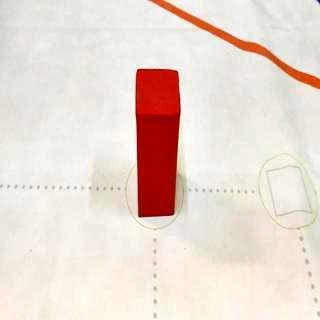redbox: (136, 68, 180, 216)
